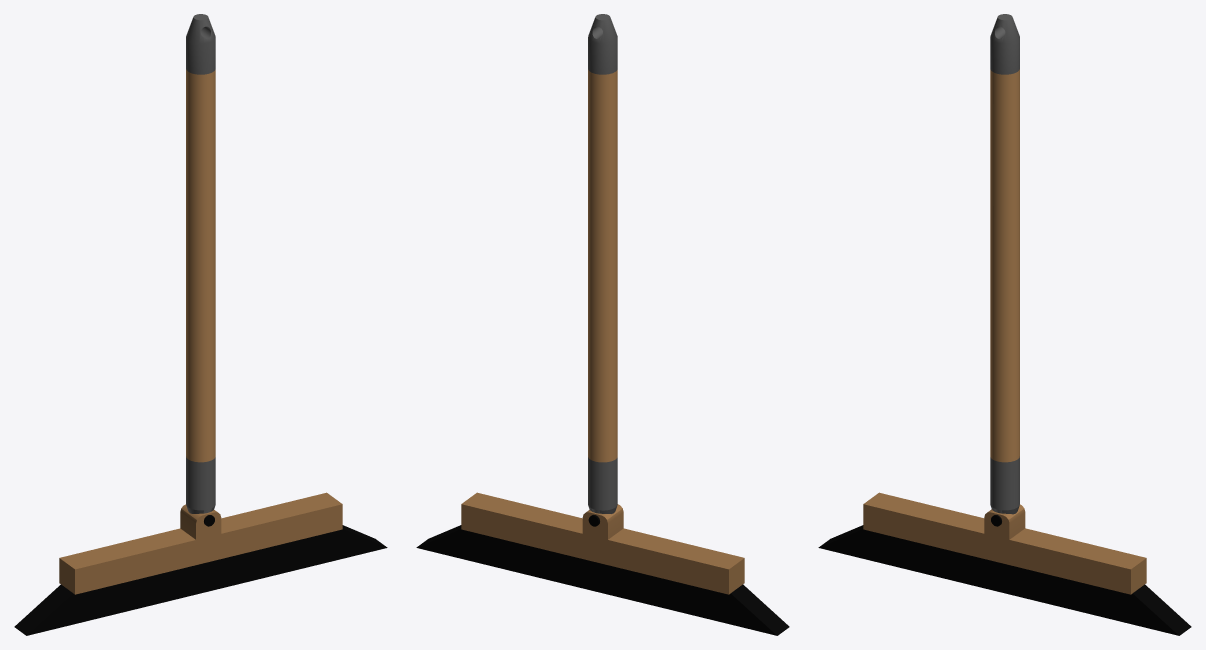
The model's file is houki.fbx.
3 renders of one model, left to right at view 1: azimuth 30°, elevation 25°; view 2: azimuth 150°, elevation 25°; view 3: azimuth 330°, elevation 25°, orthographic.
Visible parts, largest first — view 1: pCylinder8; view 2: pCylinder8; view 3: pCylinder8.
Boxes of the visible parts, left/top/right/bottom form: pCylinder8: left=14, top=14, right=387, bottom=635; pCylinder8: left=416, top=14, right=789, bottom=635; pCylinder8: left=818, top=14, right=1191, bottom=635.
Bounding box in the file's own units: 8.67 × 13.07 × 0.7581.
